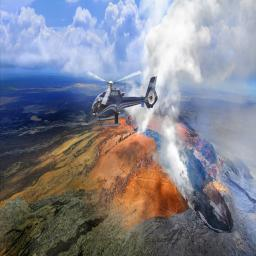helicopter: (89, 68, 161, 132)
